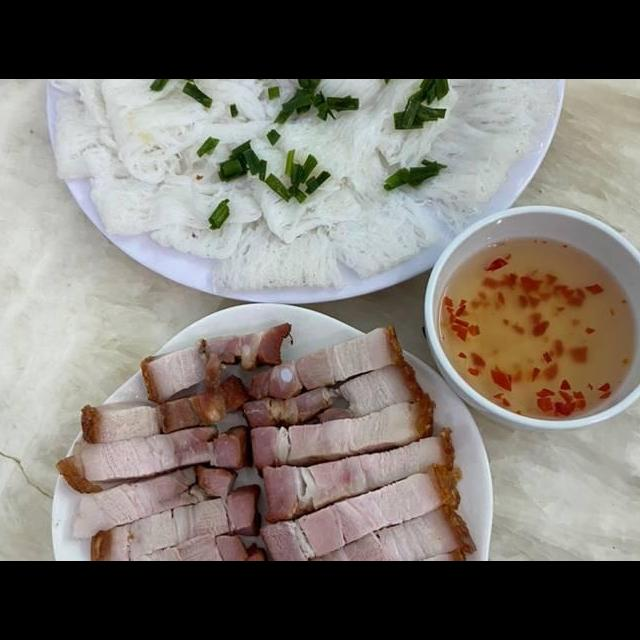banh hoi: (379, 80, 563, 240), (81, 80, 284, 187), (76, 133, 270, 243), (229, 109, 367, 250), (201, 200, 351, 303), (342, 80, 462, 204), (311, 177, 445, 281)
banh hoi heo quay: (14, 124, 629, 553)
thit heo quay: (257, 458, 472, 561), (258, 422, 459, 531), (249, 390, 441, 484), (237, 352, 431, 440), (65, 457, 243, 547), (136, 315, 298, 411), (84, 478, 264, 561), (244, 321, 409, 409), (76, 371, 252, 447), (300, 497, 481, 561), (49, 421, 255, 474)
